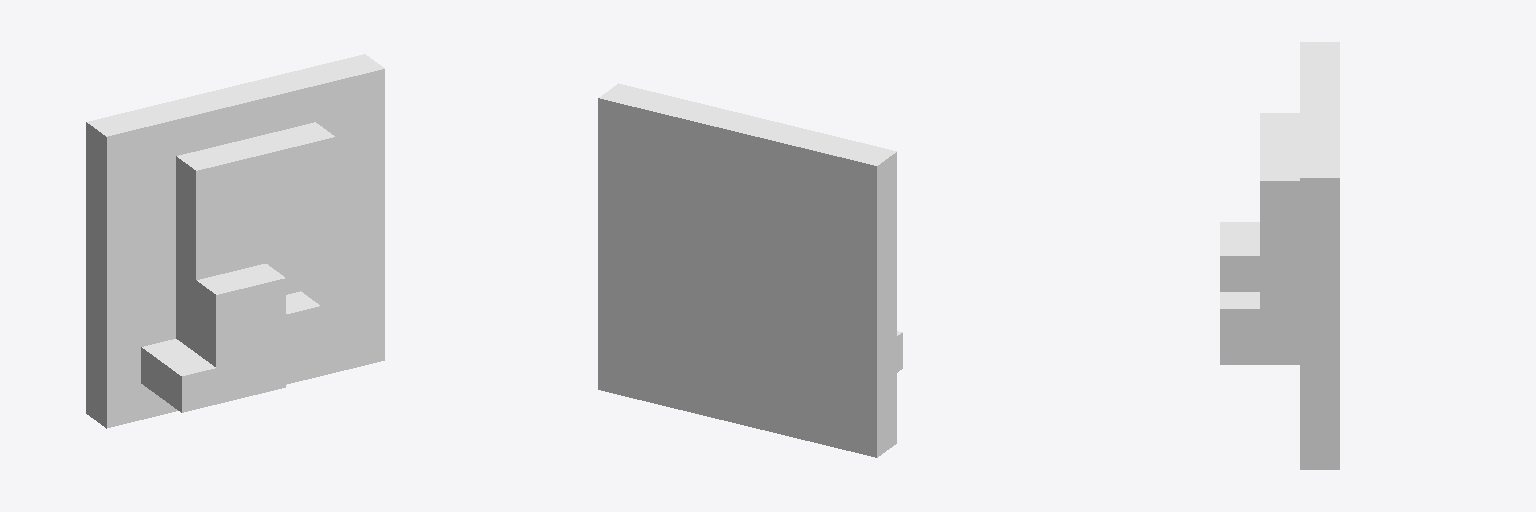
File: CentaurHoofHalf.obj
3 renders of one model, left to right at view 1: azimuth 30°, elevation 25°; view 2: azimuth 150°, elevation 25°; view 3: azimuth 270°, elevation 25°, orthographic.
Parts seen in each view (by area): view 1: object 1; view 2: object 1; view 3: object 1.
Part boxes in pixels (bbox=[...]): object 1: bbox=[86, 54, 384, 428]; object 1: bbox=[598, 83, 902, 457]; object 1: bbox=[1220, 42, 1339, 469].
Size of the model in its own units: 0.8 by 0.8 by 0.3.